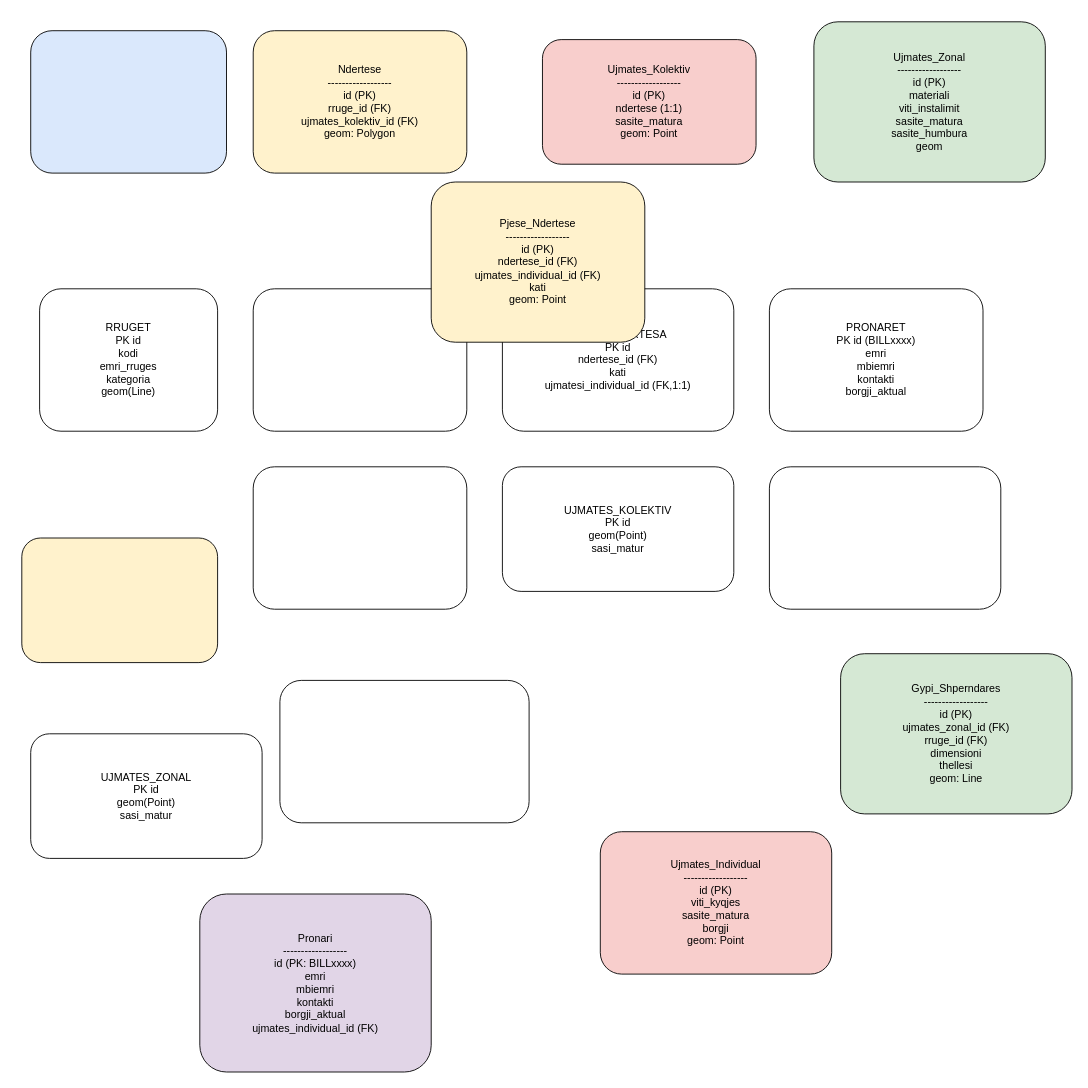
The diagram is 1088 pixels wide and 1088 high, and some of its shapes have lost their labels. Here are the shapes that lost their labels. From the top down, the centre of each, then its label:
pixel 128 101: Rruge ------------------ id (PK) kodi emri kategoria geom: LineString
pixel 359 359: NDERTESA PK id rruge_id (FK) geom(Polygon) ujmatesi_kolektiv_id (FK,1:1)
pixel 359 537: SHTEPI PK id rruge_id (FK) geom(Polygon) ujmatesi_individual_id (FK,1:1)
pixel 885 537: UJMATES_INDIVIDUAL PK id geom(Point) sasi_matur sasi_inkasuar pronari_id (FK)
pixel 119 600: Shtepi ------------------ id (PK) rruge_id (FK) geom: Point
pixel 404 751: GYPI_SHPERNDARËS PK id geom(Line) material diameter ujmatesi_zonal_id (FK)
